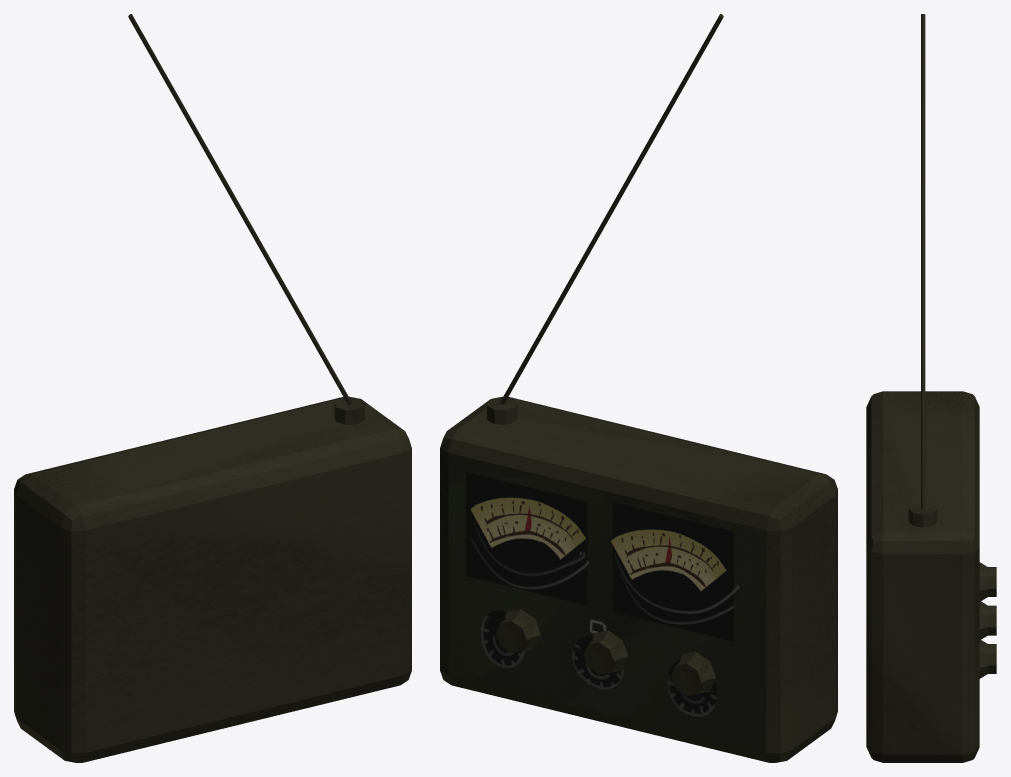
The model's file is M_Radio.fbx.
The picture shows the model from 3 angles, left to right: view 1: azimuth 30°, elevation 25°; view 2: azimuth 150°, elevation 25°; view 3: azimuth 270°, elevation 25°; orthographic projection. The views are drawn at different scales.
Parts seen in each view (by area): view 1: M_Radio; view 2: M_Radio; view 3: M_Radio.
Part boxes in pixels (bbox=[...]): M_Radio: bbox=[14, 14, 411, 762]; M_Radio: bbox=[440, 14, 837, 762]; M_Radio: bbox=[866, 14, 996, 762].
Bounding box in the file's own units: 200 × 390 × 71.53.
